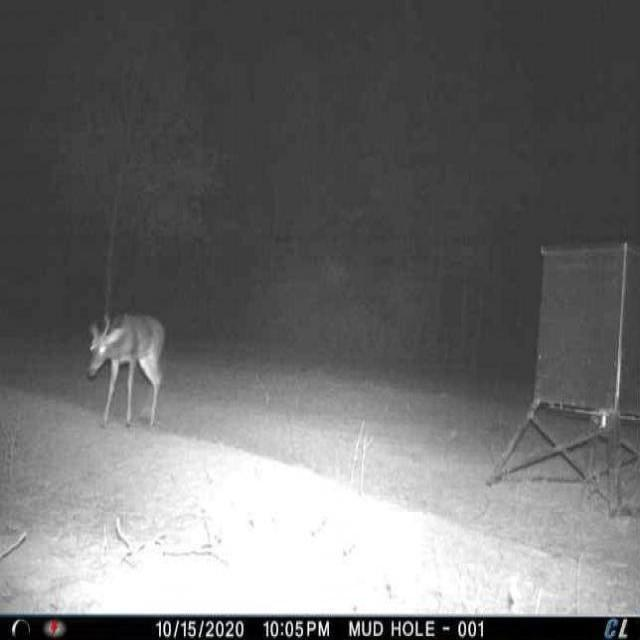deer: (84, 309, 171, 436)
